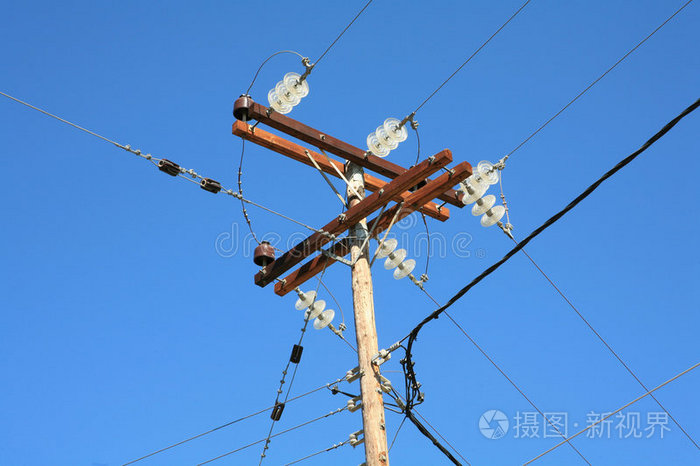insulator: (462, 181, 506, 229), (267, 72, 308, 115), (377, 240, 416, 279), (297, 290, 334, 331), (367, 120, 406, 156), (462, 158, 499, 190)
